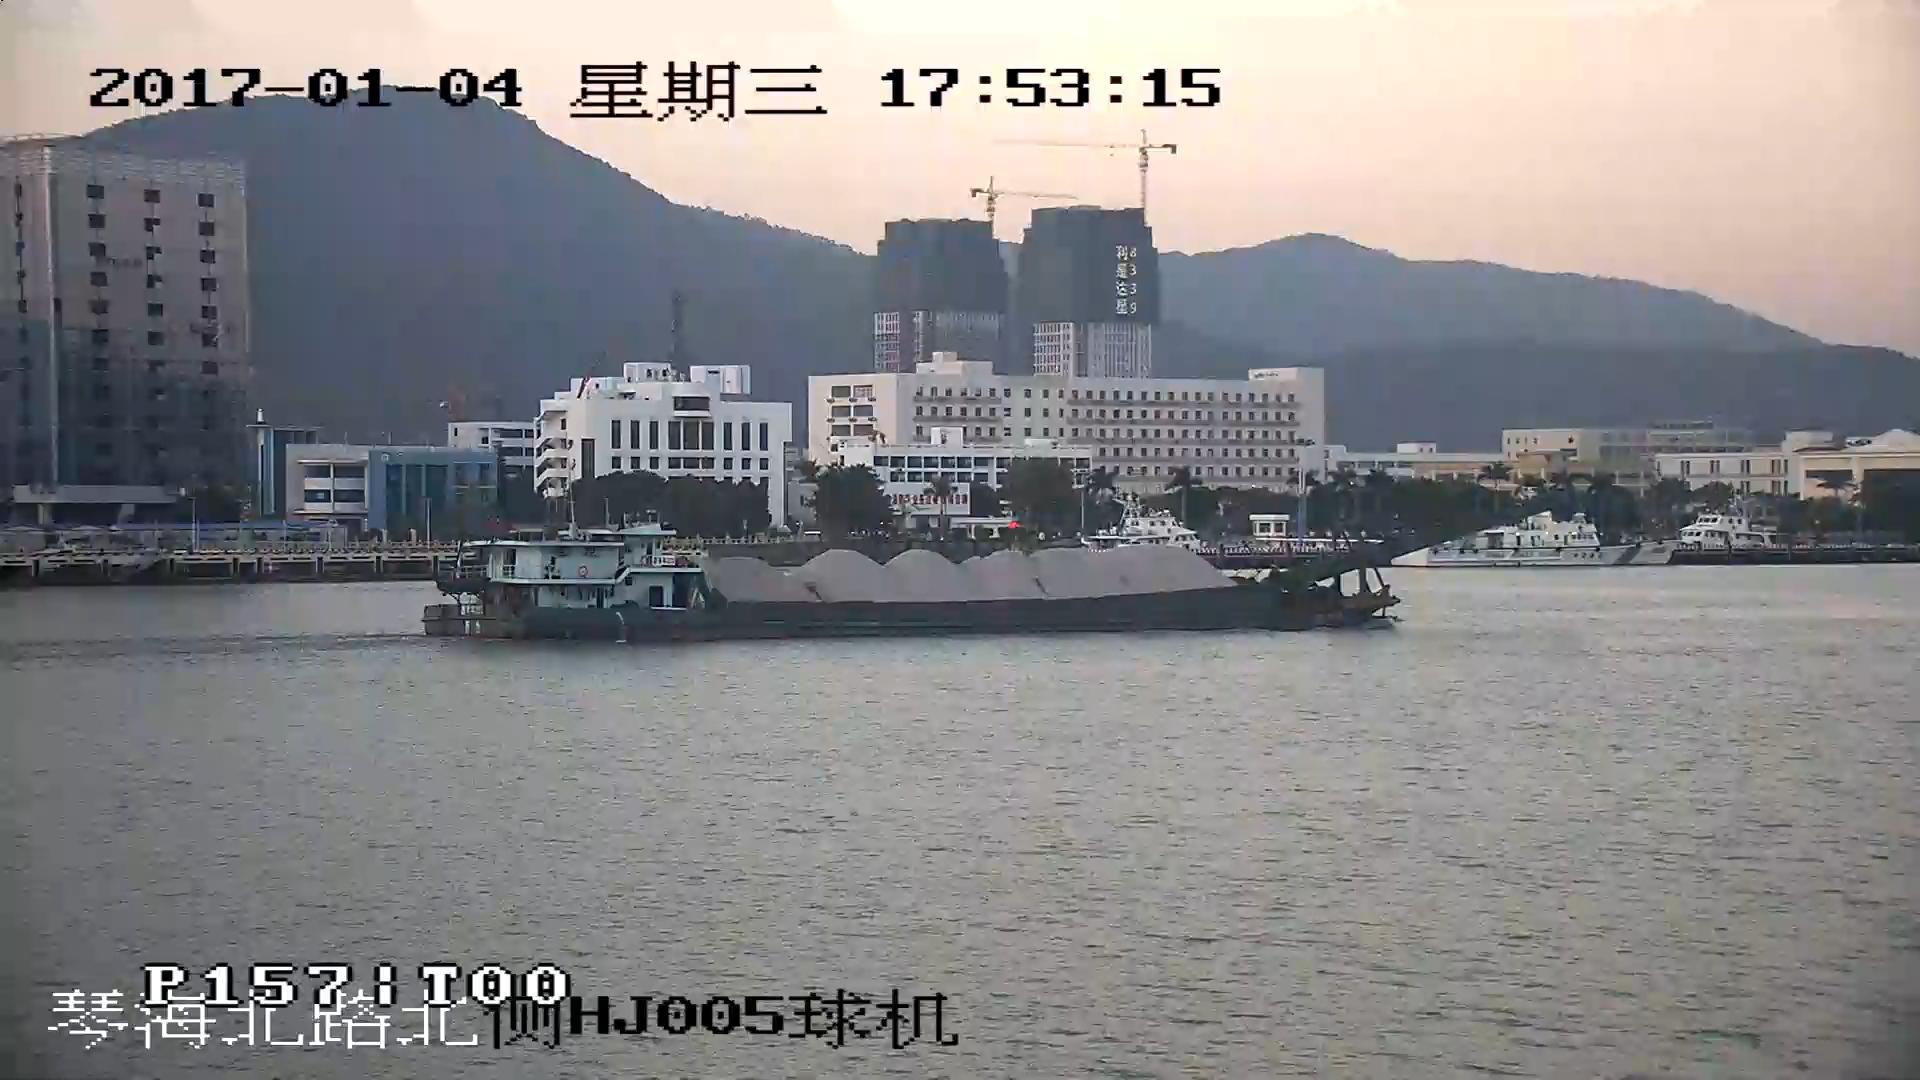ore carrier: (426, 492, 1549, 644)
